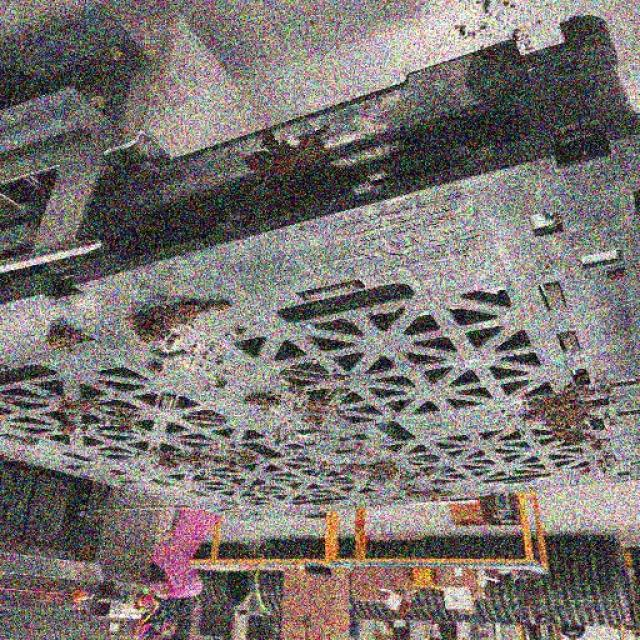igps: (0, 7, 640, 525)
